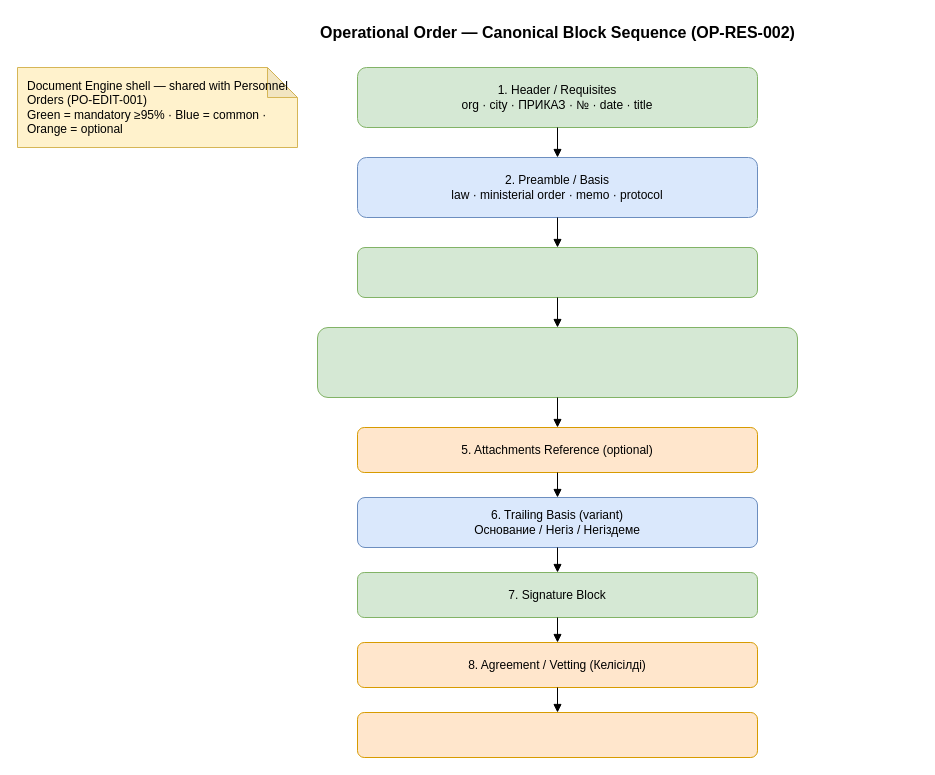
Image size: 935x775. Some labels were removed from this diagram. Each missing label, with the centre of its shape:
"3. Order Formula ПРИКАЗЫВАЮ / БҰЙЫРАМЫН" belongs at (x=557, y=272).
"4. Dispositive Section numbered items 1..N · sub-items · meta-items" belongs at (x=557, y=362).
"9. Acknowledgement / Distribution / исп:" belongs at (x=557, y=735).
